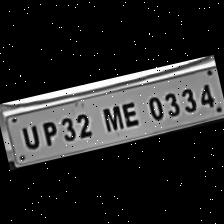0: (140, 90, 166, 124)
2: (70, 106, 96, 140)
3: (175, 82, 198, 114), (160, 86, 182, 119), (56, 111, 78, 142)
4: (192, 77, 217, 111)
E: (116, 96, 142, 130)
M: (97, 100, 125, 134)
P: (36, 116, 60, 148)
U: (16, 118, 42, 151)
